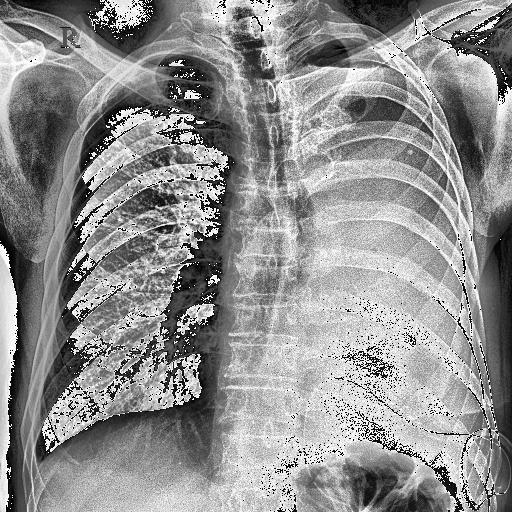1- Atelectasis: (241, 90, 498, 441)
10- Pleural effusion: (260, 30, 508, 444), (276, 31, 508, 463), (16, 427, 78, 470)
12- Pneumothorax: (294, 24, 410, 96)
7- Lung Opacity: (260, 30, 508, 444)
